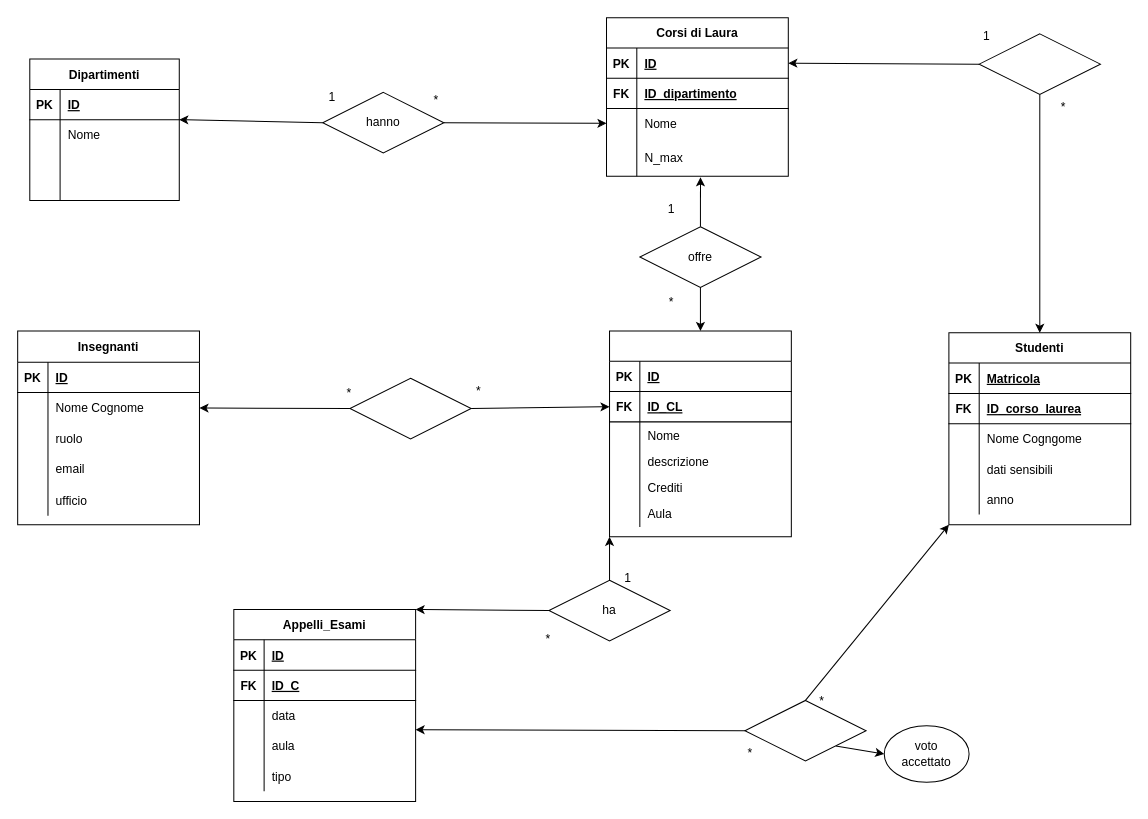
This 1148x819 diagram has some shape labels left out. Here are the shapes that lost their labels. From the top down, the box of each, then its label:
(978, 33, 1100, 94): frequentato
(349, 377, 471, 439): Insegna
(609, 330, 791, 537): Corso
(744, 699, 866, 761): fanno
